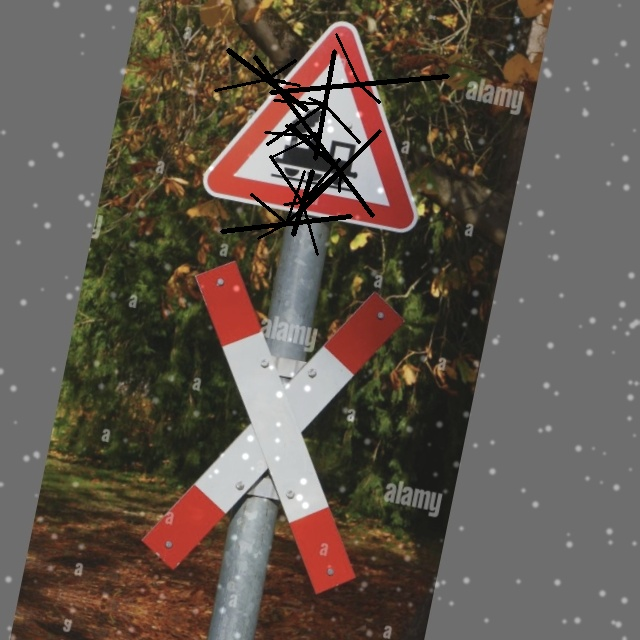Unguarded_Level_Crossing: (218, 29, 447, 237)
